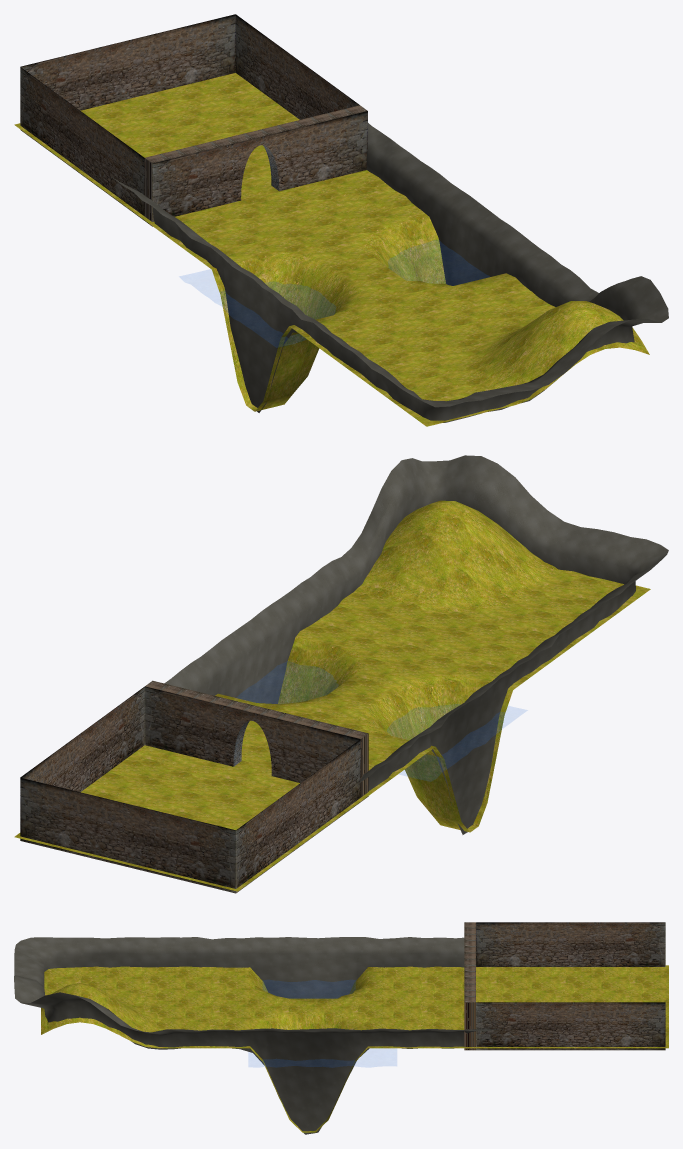
File: example_level_upcoming.gltf
3 renders of one model, top to bottom at view 1: azimuth 30°, elevation 25°; view 2: azimuth 150°, elevation 25°; view 3: azimuth 270°, elevation 25°, orthographic. The views are drawn at different scales.
Parts seen in each view (by area): view 1: Grid, Cube, Grid.001, Plane; view 2: Grid, Cube, Grid.001, Plane; view 3: Grid.001, Grid, Cube, Plane.
Part boxes in pixels (box(x1,y1,x2,y2)): Grid: box(14, 73, 649, 426); Cube: box(20, 14, 367, 226); Grid.001: box(111, 123, 668, 422); Plane: box(180, 240, 488, 346); Grid: box(14, 500, 650, 891); Cube: box(20, 680, 368, 893); Grid.001: box(164, 455, 668, 834); Plane: box(237, 661, 526, 780); Grid.001: box(14, 937, 503, 1134); Grid: box(41, 965, 668, 1132); Cube: box(464, 922, 665, 1050); Plane: box(249, 980, 396, 1066).
Size of the model in its own units: 45.01 by 33.43 by 133.
5 materials, 5 textured.
